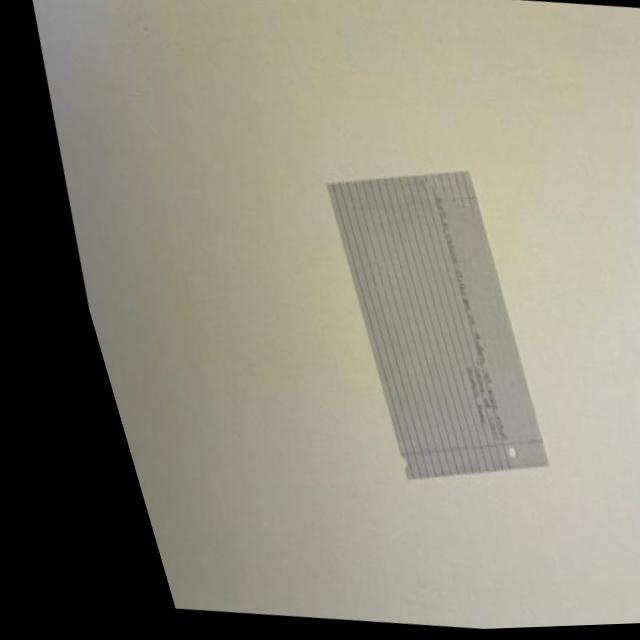paper: (145, 76, 640, 550)
